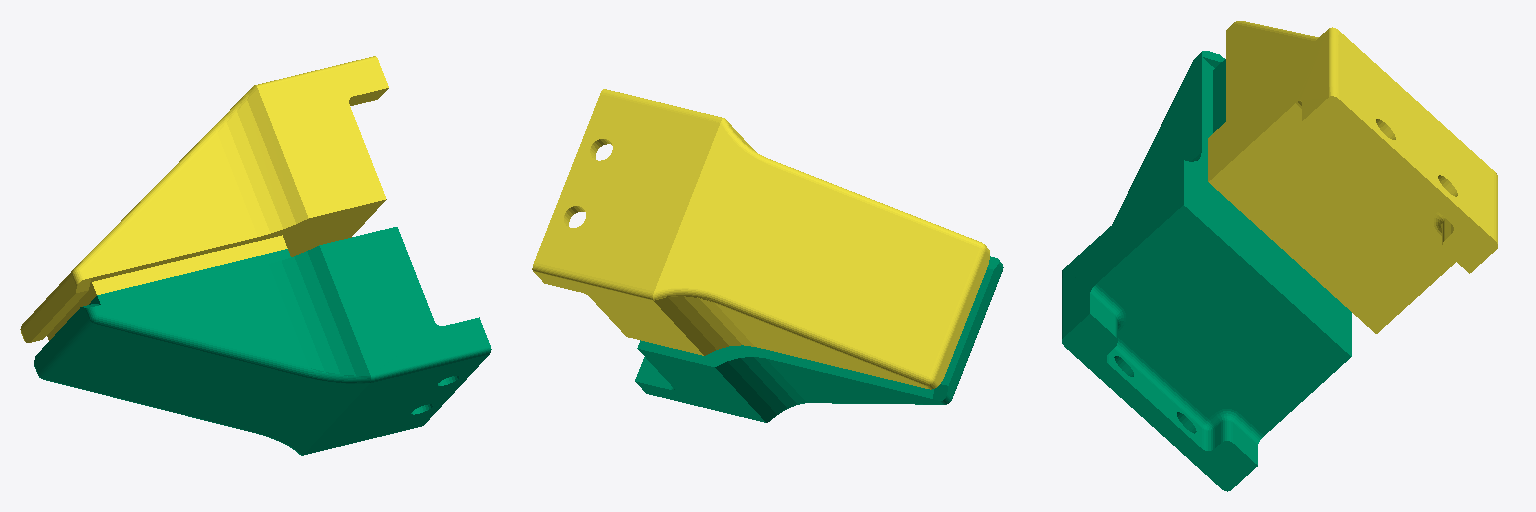
The robot description file, URDF, robot "panda":
<?xml version="1.0" encoding="utf-8"?>
<!-- =================================================================================== -->
<!-- |    This document was autogenerated by xacro from panda_arm_hand.urdf.xacro      | -->
<!-- |    EDITING THIS FILE BY HAND IS NOT RECOMMENDED                                 | -->
<!-- =================================================================================== -->
<robot name="panda" xmlns:xacro="http://www.ros.org/wiki/xacro">
  <link name="panda_link0">
    <visual>
      <geometry>
        <mesh filename="link0.dae"/>
      </geometry>
    </visual>
    <collision>
      <geometry>
        <mesh filename="collision/link0.stl"/>
      </geometry>
    </collision>
  </link>
  <link name="panda_link1">
    <visual>
      <geometry>
        <mesh filename="link1.dae"/>
      </geometry>
    </visual>
    <collision>
      <geometry>
        <mesh filename="collision/link1.stl"/>
      </geometry>
    </collision>
  </link>
  <joint name="panda_joint1" type="revolute">
    <safety_controller k_position="100.0" k_velocity="40.0" soft_lower_limit="-2.8973" soft_upper_limit="2.8973"/>
    <origin rpy="0 0 0" xyz="0 0 0.333"/>
    <parent link="panda_link0"/>
    <child link="panda_link1"/>
    <axis xyz="0 0 1"/>
    <limit effort="87" lower="-2.8973" upper="2.8973" velocity="2.1750"/>
  </joint>
  <link name="panda_link2">
    <visual>
      <geometry>
        <mesh filename="link2.dae"/>
      </geometry>
    </visual>
    <collision>
      <geometry>
        <mesh filename="collision/link2.stl"/>
      </geometry>
    </collision>
  </link>
  <joint name="panda_joint2" type="revolute">
    <safety_controller k_position="100.0" k_velocity="40.0" soft_lower_limit="-1.7628" soft_upper_limit="1.7628"/>
    <origin rpy="-1.57079632679 0 0" xyz="0 0 0"/>
    <parent link="panda_link1"/>
    <child link="panda_link2"/>
    <axis xyz="0 0 1"/>
    <limit effort="87" lower="-1.7628" upper="1.7628" velocity="2.1750"/>
  </joint>
  <link name="panda_link3">
    <visual>
      <geometry>
        <mesh filename="link3.dae"/>
      </geometry>
    </visual>
    <collision>
      <geometry>
        <mesh filename="collision/link3.stl"/>
      </geometry>
    </collision>
  </link>
  <joint name="panda_joint3" type="revolute">
    <safety_controller k_position="100.0" k_velocity="40.0" soft_lower_limit="-2.8973" soft_upper_limit="2.8973"/>
    <origin rpy="1.57079632679 0 0" xyz="0 -0.316 0"/>
    <parent link="panda_link2"/>
    <child link="panda_link3"/>
    <axis xyz="0 0 1"/>
    <limit effort="87" lower="-2.8973" upper="2.8973" velocity="2.1750"/>
  </joint>
  <link name="panda_link4">
    <visual>
      <geometry>
        <mesh filename="link4.dae"/>
      </geometry>
    </visual>
    <collision>
      <geometry>
        <mesh filename="collision/link4.stl"/>
      </geometry>
    </collision>
  </link>
  <joint name="panda_joint4" type="revolute">
    <safety_controller k_position="100.0" k_velocity="40.0" soft_lower_limit="-3.0718" soft_upper_limit="-0.0698"/>
    <origin rpy="1.57079632679 0 0" xyz="0.0825 0 0"/>
    <parent link="panda_link3"/>
    <child link="panda_link4"/>
    <axis xyz="0 0 1"/>
    <limit effort="87" lower="-3.0718" upper="-0.0698" velocity="2.1750"/>
  </joint>
  <link name="panda_link5">
    <visual>
      <geometry>
        <mesh filename="link5.dae"/>
      </geometry>
    </visual>
    <collision>
      <geometry>
        <mesh filename="collision/link5.stl"/>
      </geometry>
    </collision>
  </link>
  <joint name="panda_joint5" type="revolute">
    <safety_controller k_position="100.0" k_velocity="40.0" soft_lower_limit="-2.8973" soft_upper_limit="2.8973"/>
    <origin rpy="-1.57079632679 0 0" xyz="-0.0825 0.384 0"/>
    <parent link="panda_link4"/>
    <child link="panda_link5"/>
    <axis xyz="0 0 1"/>
    <limit effort="12" lower="-2.8973" upper="2.8973" velocity="2.6100"/>
  </joint>
  <link name="panda_link6">
    <visual>
      <geometry>
        <mesh filename="link6.dae"/>
      </geometry>
    </visual>
    <collision>
      <geometry>
        <mesh filename="collision/link6.stl"/>
      </geometry>
    </collision>
  </link>
  <joint name="panda_joint6" type="revolute">
    <safety_controller k_position="100.0" k_velocity="40.0" soft_lower_limit="-0.0175" soft_upper_limit="3.7525"/>
    <origin rpy="1.57079632679 0 0" xyz="0 0 0"/>
    <parent link="panda_link5"/>
    <child link="panda_link6"/>
    <axis xyz="0 0 1"/>
    <limit effort="12" lower="-0.0175" upper="3.7525" velocity="2.6100"/>
  </joint>
  <link name="panda_link7">
    <visual>
      <geometry>
        <mesh filename="link7.dae"/>
      </geometry>
    </visual>
    <collision>
      <geometry>
        <mesh filename="collision/link7.stl"/>
      </geometry>
    </collision>
  </link>
  <joint name="panda_joint7" type="revolute">
    <safety_controller k_position="100.0" k_velocity="40.0" soft_lower_limit="-2.8973" soft_upper_limit="2.8973"/>
    <origin rpy="1.57079632679 0 0" xyz="0.088 0 0"/>
    <parent link="panda_link6"/>
    <child link="panda_link7"/>
    <axis xyz="0 0 1"/>
    <limit effort="12" lower="-2.8973" upper="2.8973" velocity="2.6100"/>
  </joint>
  <link name="panda_link8"/>
  <joint name="panda_joint8" type="fixed">
    <origin rpy="0 0 0" xyz="0 0 0.107"/>
    <parent link="panda_link7"/>
    <child link="panda_link8"/>
    <axis xyz="0 0 0"/>
  </joint>
  <joint name="panda_hand_joint" type="fixed">
    <parent link="panda_link8"/>
    <child link="panda_hand"/>
    <origin rpy="0 0 -0.785398163397" xyz="0 0 0"/>
  </joint>
  <link name="panda_hand">
    <visual>
      <geometry>
        <mesh filename="hand.dae"/>
      </geometry>
    </visual>
    <collision>
      <geometry>
        <mesh filename="collision/hand.stl"/>
      </geometry>
    </collision>
  </link>

  <link name="left_finger">
    <visual>
      <origin rpy="-1.5707963268 0 0" xyz="0 0 0"/>
      <geometry>
        <mesh filename="finger_vectouch.dae"/>
      </geometry>
    </visual>
    <collision>
      <origin rpy="0 0 0" xyz="0 0 0"/>
      <geometry>
        <mesh filename="finger_vectouch.dae"/>
      </geometry>
    </collision>
  </link>

  <link name="right_finger">
    <visual>
      <origin rpy="-1.5707963268 0 3.1415926536" xyz="0 0 0"/>
      <geometry>
        <mesh filename="finger_vectouch.dae"/>
      </geometry>
    </visual>
    <collision>
      <origin rpy="0 0 3.1415926536" xyz="0 0 0"/>
      <geometry>
        <mesh filename="finger_vectouch.dae"/>
      </geometry>
    </collision>
  </link>

  <joint name="panda_finger_joint1" type="prismatic">
    <parent link="panda_hand"/>
    <child link="left_finger"/>
    <origin rpy="0 0 0" xyz="0 0 0.1117"/>
    <axis xyz="0 1 0"/>
    <limit effort="20" lower="0.0" upper="0.04" velocity="0.2"/>
  </joint>
  <joint name="panda_finger_joint2" type="prismatic">
    <parent link="panda_hand"/>
    <child link="right_finger"/>
    <origin rpy="0 0 0" xyz="0 0 0.1117"/>
    <axis xyz="0 -1 0"/>
    <limit effort="20" lower="0.0" upper="0.04" velocity="0.2"/>
  </joint>
  <!-- <joint name="panda_finger_joint2" type="prismatic">
    <parent link="panda_hand"/>
    <child link="panda_rightfinger"/>
    <origin rpy="0 0 0" xyz="0 0 0.0584"/>
    <axis xyz="0 -1 0"/>
    <limit effort="20" lower="0.0" upper="0.04" velocity="0.2"/>
    <mimic joint="panda_finger_joint1"/>
  </joint> -->
</robot>

--- Facts derived from the render (not from the file) ---
Views: 3 orthographic renders of the robot side by side, from view 1: azimuth 30°, elevation 25°; view 2: azimuth 150°, elevation 25°; view 3: azimuth 270°, elevation 25°.
Model panda with 12 links and 11 joints (7 revolute, 2 prismatic, 2 fixed), rooted at panda_link0, posed all joints at 0 but 1 set to mid-range because 0 is outside their limits (panda_joint4 = -1.57).
Visible links, largest first — view 1: left_finger, right_finger; view 2: right_finger, left_finger; view 3: left_finger, right_finger.
Boxes of the visible links, left/top/right/bottom form: left_finger: left=34, top=227, right=491, bottom=455; right_finger: left=20, top=56, right=388, bottom=342; right_finger: left=532, top=89, right=989, bottom=389; left_finger: left=635, top=256, right=1003, bottom=422; left_finger: left=1062, top=51, right=1351, bottom=491; right_finger: left=1208, top=21, right=1497, bottom=333.
Size in the robot's own frame: 0.0528 by 0.0496 by 0.0496 metres.
2 mesh visuals loaded from 10 distinct referenced files (1 Collada DAE); not drawn: 9 (reference not matched to a file when rendering).